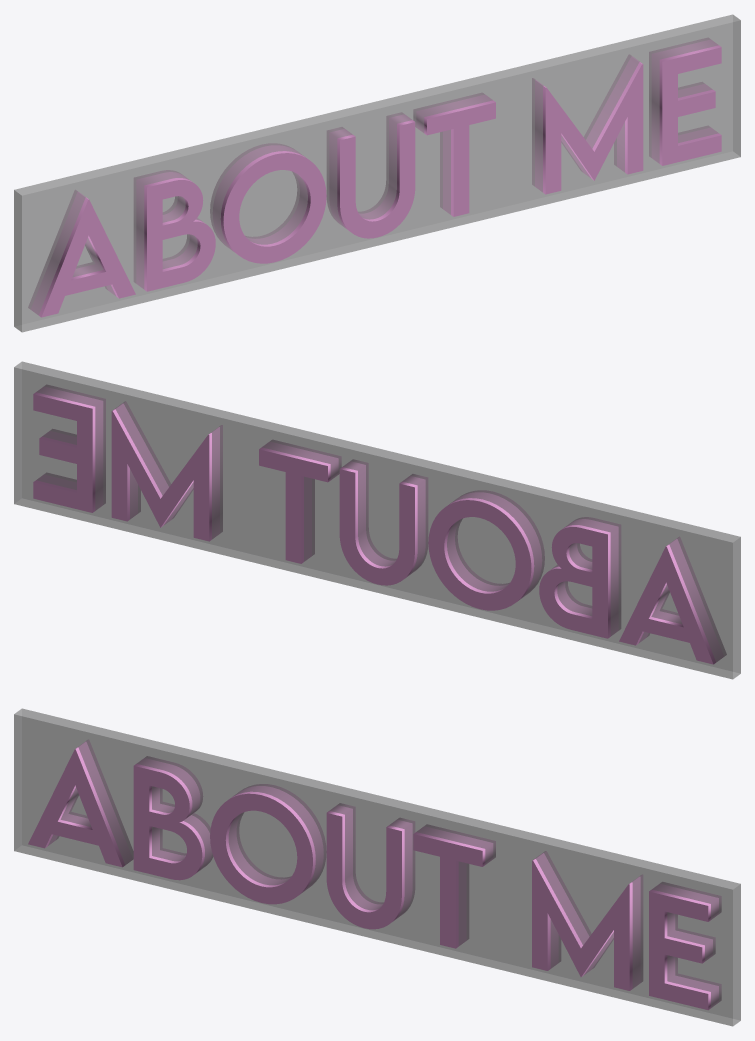
File: aboutButton.glb
The picture shows the model from 3 angles, top to bottom: view 1: azimuth 30°, elevation 25°; view 2: azimuth 150°, elevation 25°; view 3: azimuth 330°, elevation 25°; orthographic projection.
Parts seen in each view (by area): view 1: about glass, about text; view 2: about glass, about text; view 3: about glass, about text.
Part boxes in pixels (bbox=[...]): about glass: bbox=[14, 14, 740, 332]; about text: bbox=[28, 38, 721, 317]; about glass: bbox=[14, 361, 740, 679]; about text: bbox=[33, 385, 726, 664]; about glass: bbox=[14, 708, 740, 1026]; about text: bbox=[28, 740, 721, 1010].
Size of the model in its own units: 4.32 by 0.785 by 0.14.
